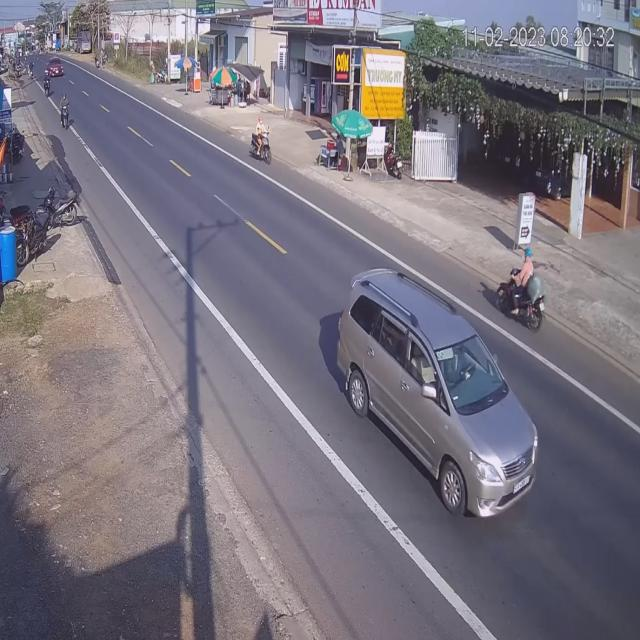car: (336, 263, 538, 521), (49, 55, 65, 79)
motorbike: (497, 247, 549, 334), (250, 114, 272, 165), (59, 94, 71, 130)
